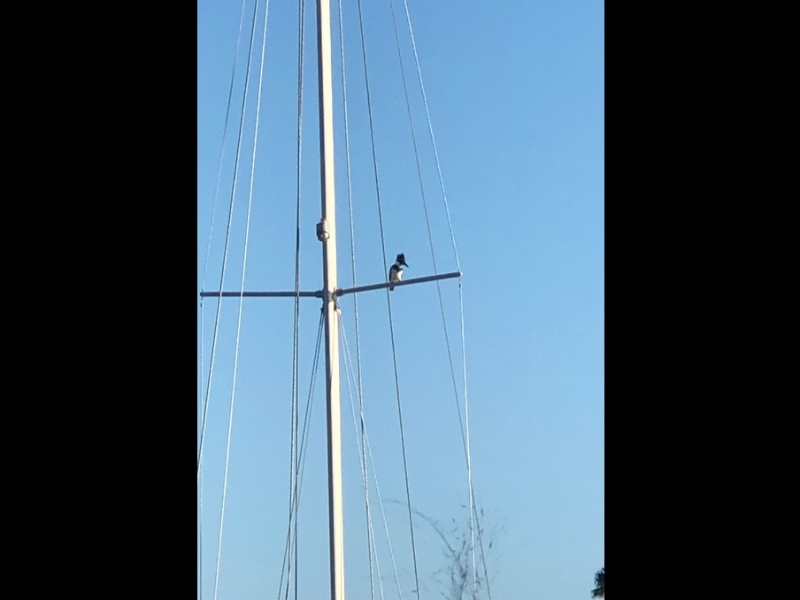kingfisher: (386, 251, 408, 293)
